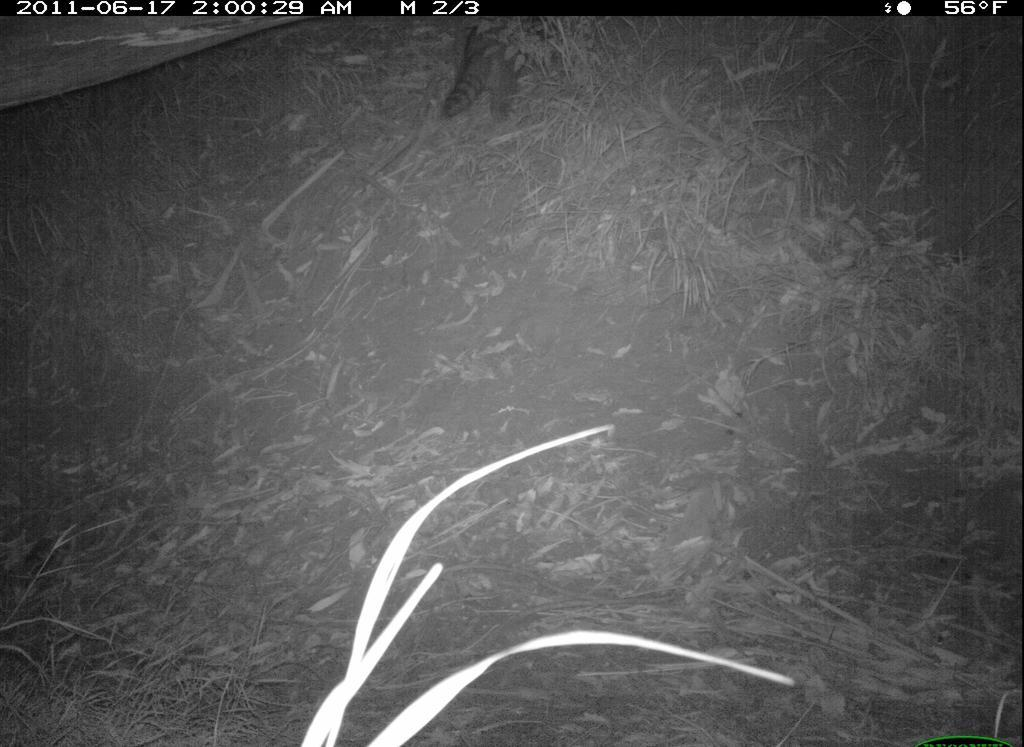raccoon: (437, 13, 561, 128)
